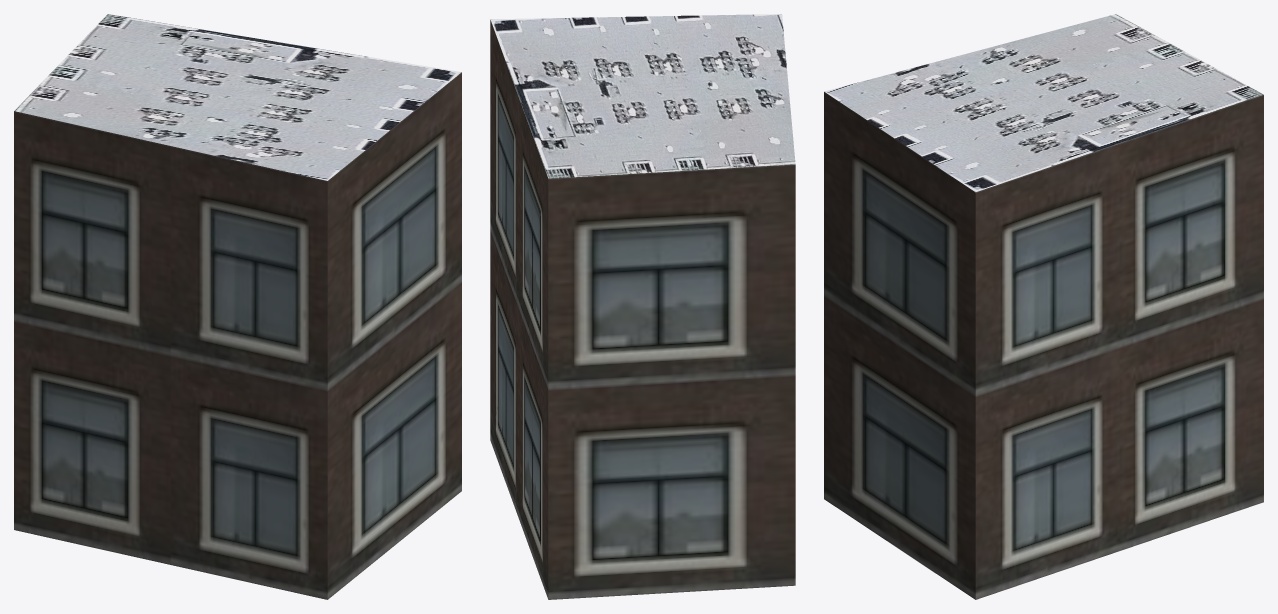
File: ResTex__1451.fbx
3 views of the same model, side by side, from view 1: azimuth 30°, elevation 25°; view 2: azimuth 150°, elevation 25°; view 3: azimuth 270°, elevation 25° (orthographic). The views are drawn at different scales.
Parts seen in each view (by area): view 1: CityEngineMaterial_16_m, CityEngineMaterial_15_m; view 2: CityEngineMaterial_16_m, CityEngineMaterial_15_m; view 3: CityEngineMaterial_16_m, CityEngineMaterial_15_m.
Boxes of the visible parts, bbox=[...] form: CityEngineMaterial_16_m: bbox=[14, 72, 461, 599]; CityEngineMaterial_15_m: bbox=[14, 14, 461, 180]; CityEngineMaterial_16_m: bbox=[490, 20, 795, 599]; CityEngineMaterial_15_m: bbox=[490, 14, 795, 178]; CityEngineMaterial_16_m: bbox=[824, 92, 1263, 599]; CityEngineMaterial_15_m: bbox=[824, 14, 1263, 192].
Size of the model in its own units: 5.63 by 6 by 5.87.
2 materials, 2 textured.
